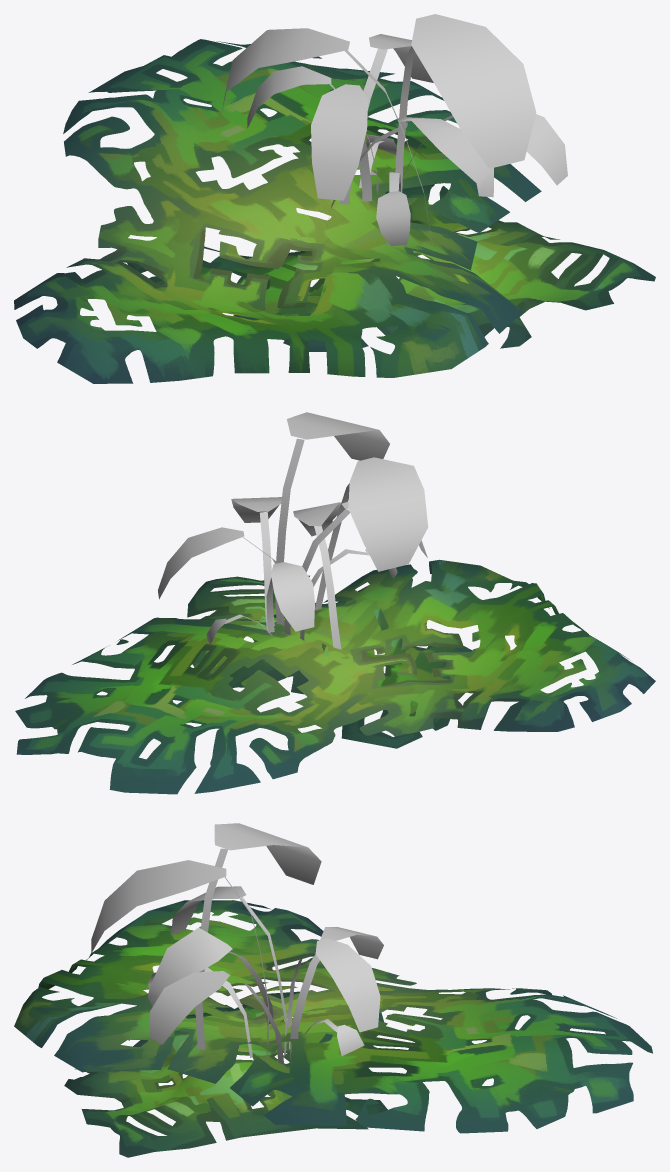
File: P_plants_moss.FBX
3 views of the same model, one above another, from view 1: azimuth 30°, elevation 25°; view 2: azimuth 150°, elevation 25°; view 3: azimuth 270°, elevation 25° (orthographic). The views are drawn at different scales.
Visible parts, largest first — view 1: moss2, plante003, moss; view 2: moss2, plante003, moss; view 3: moss2, plante003, moss.
Boxes of the visible parts, left/top/right/bottom form: moss2: left=14, top=39, right=541, bottom=383; plante003: left=221, top=14, right=567, bottom=246; moss: left=127, top=184, right=655, bottom=351; moss2: left=15, top=559, right=655, bottom=794; plante003: left=158, top=412, right=428, bottom=651; moss: left=173, top=575, right=472, bottom=748; moss2: left=14, top=900, right=652, bottom=1133; plante003: left=91, top=823, right=383, bottom=1064; moss: left=64, top=991, right=387, bottom=1157.
Size of the model in its own units: 116 by 51.08 by 137.
